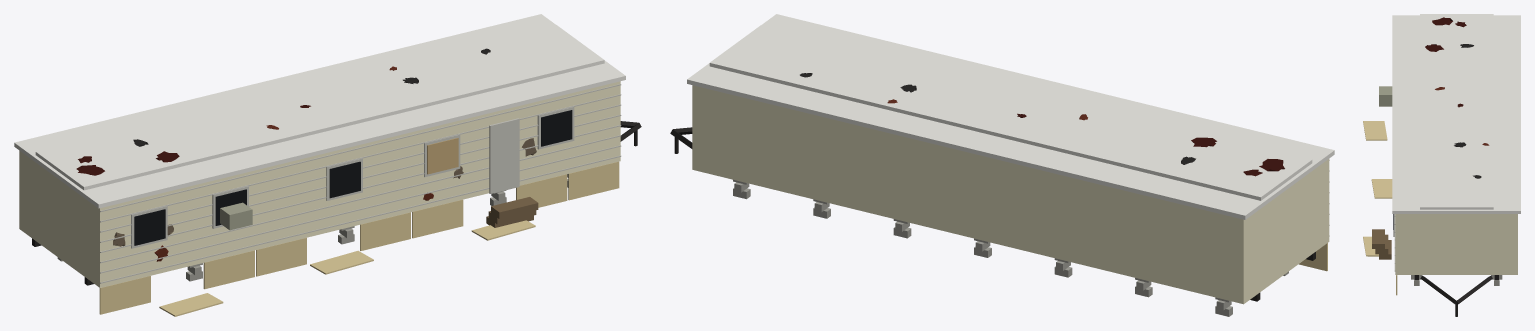
The model's file is trailer_trailer.glb.
The picture shows the model from 3 angles, left to right: view 1: azimuth 30°, elevation 25°; view 2: azimuth 150°, elevation 25°; view 3: azimuth 270°, elevation 25°; orthographic projection. The views are drawn at different scales.
Parts seen in each view (by area): view 1: trailer_trailer; view 2: trailer_trailer; view 3: trailer_trailer.
Boxes of the visible parts, <box> form: trailer_trailer: <box>14,14,641,316</box>; trailer_trailer: <box>670,14,1334,316</box>; trailer_trailer: <box>1363,14,1520,316</box>.
Size of the model in its own units: 17.95 by 3.45 by 5.53.
